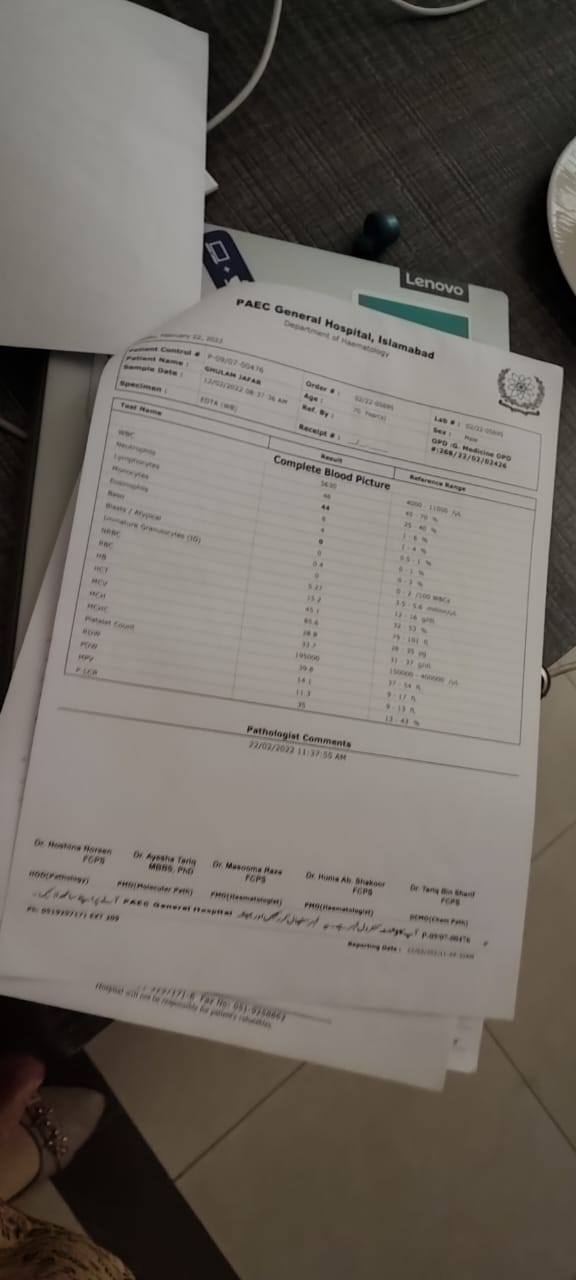report: (66, 396, 534, 750)
